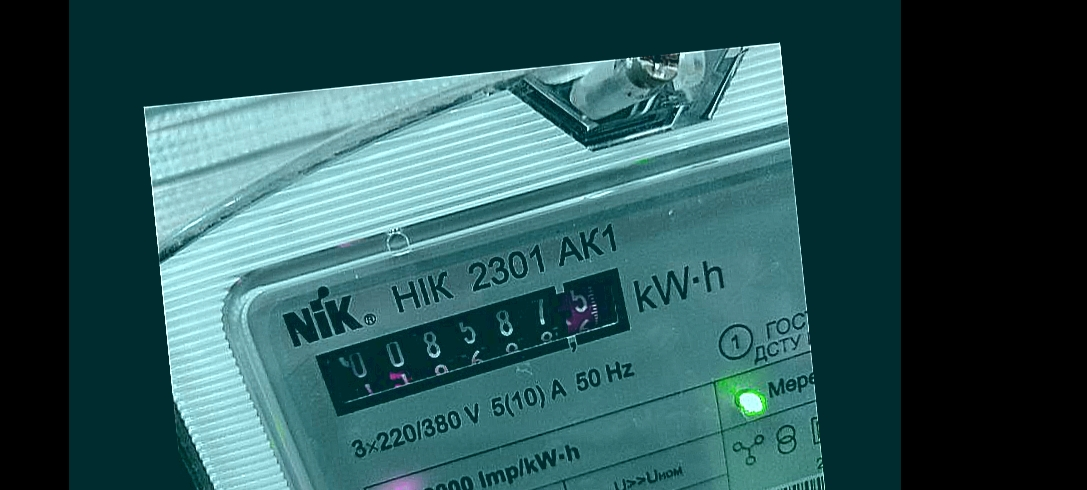0: (380, 334, 410, 370), (343, 346, 372, 380)
5: (455, 314, 481, 347), (566, 280, 591, 313)
6: (574, 315, 594, 334)
7: (528, 293, 553, 329)
8: (419, 326, 446, 360), (491, 304, 517, 339)
screen: (301, 263, 658, 420)
